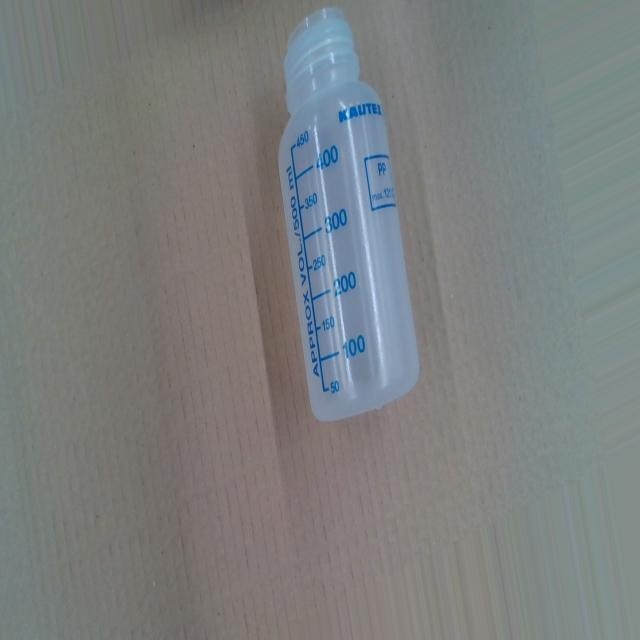bottle: (278, 5, 423, 431)
